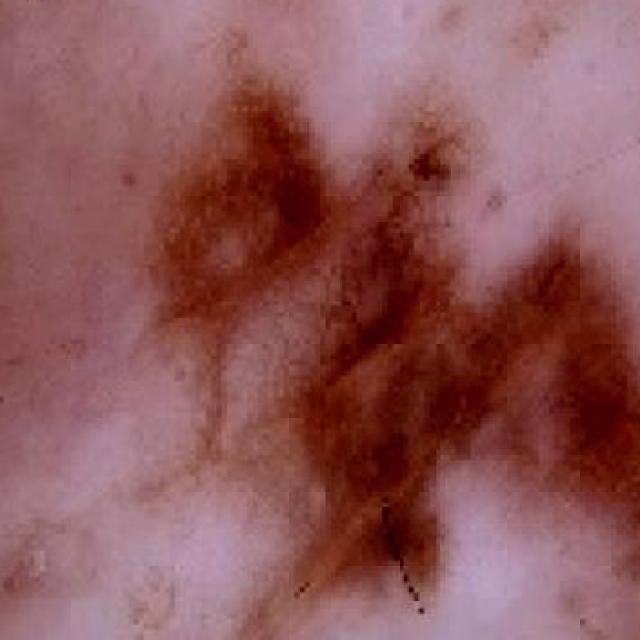MEL: (3, 53, 640, 640)
